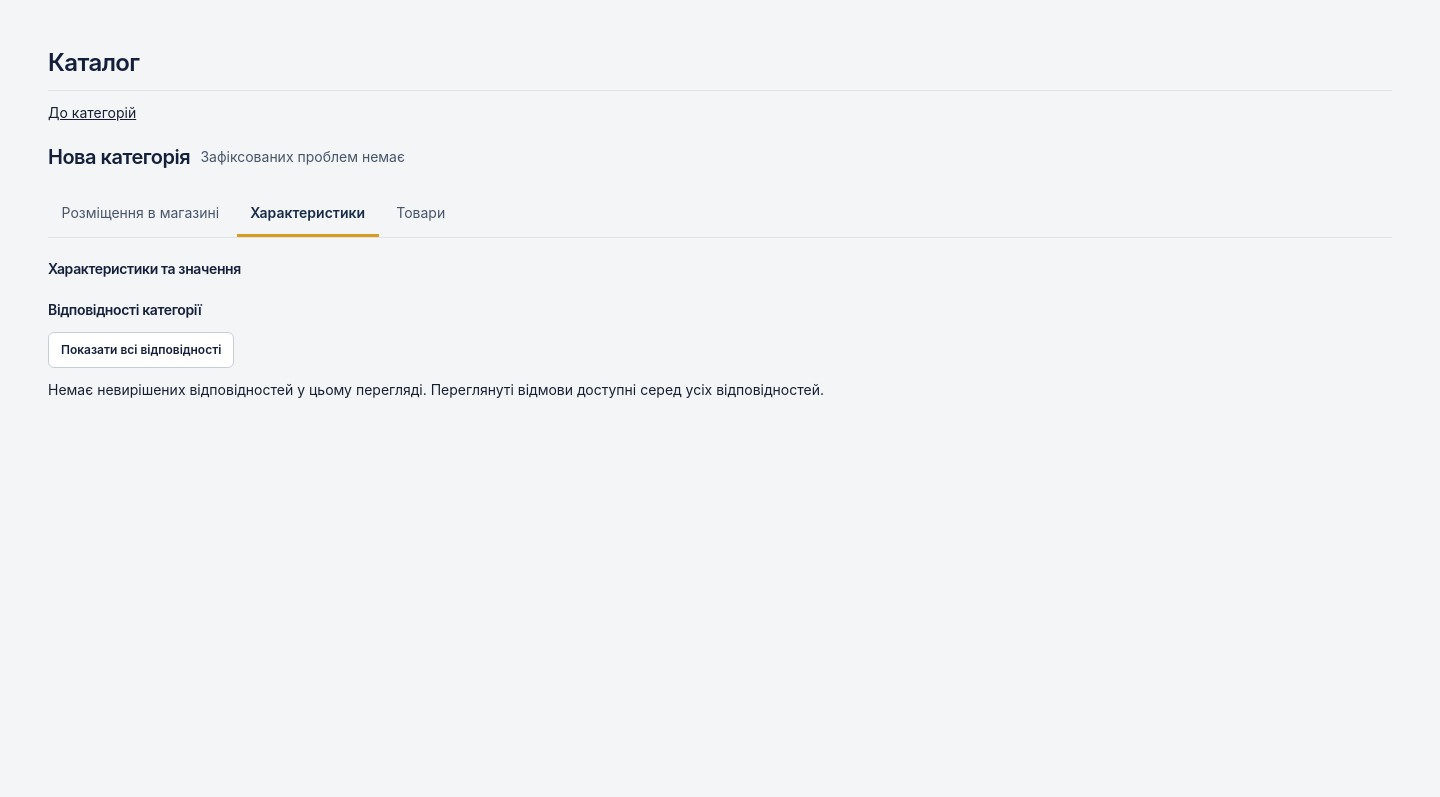
searches the entire mapping scope by Який камінь? without mounting unrelated rows
Expected: the text "Немає невирішених" is shown, [48, 381, 824, 398]
Step 1. Click the button "Показати всі відповідності" → (141, 350), box [48, 332, 234, 368]
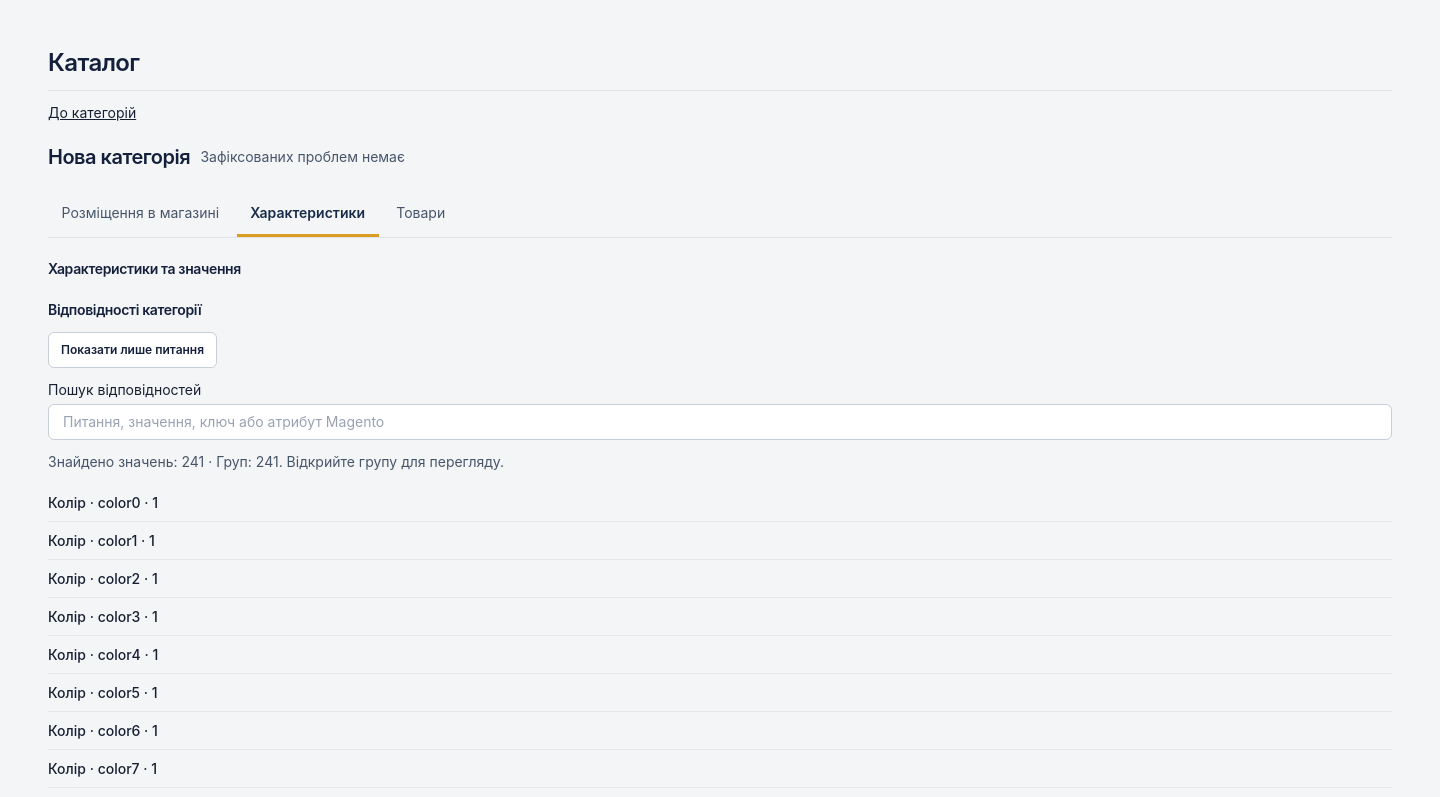
Step 2. Type "Який камінь?" into the search field labelled "Пошук відповідностей" → (720, 422), box [48, 404, 1392, 440]
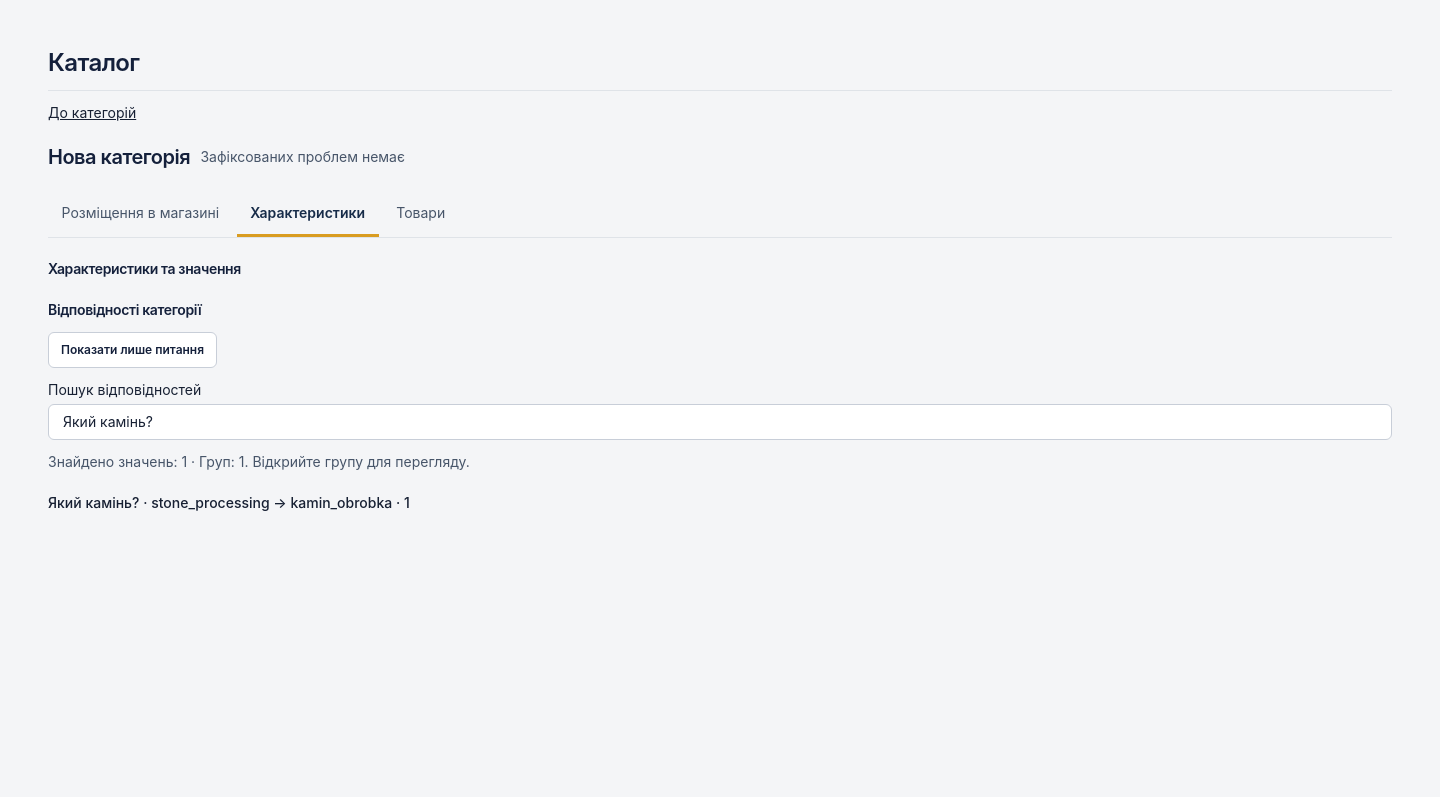
Step 3. Click the button "Який камінь? · stone_processing → kamin_obrobka · 1" → (229, 503), box [48, 492, 410, 513]
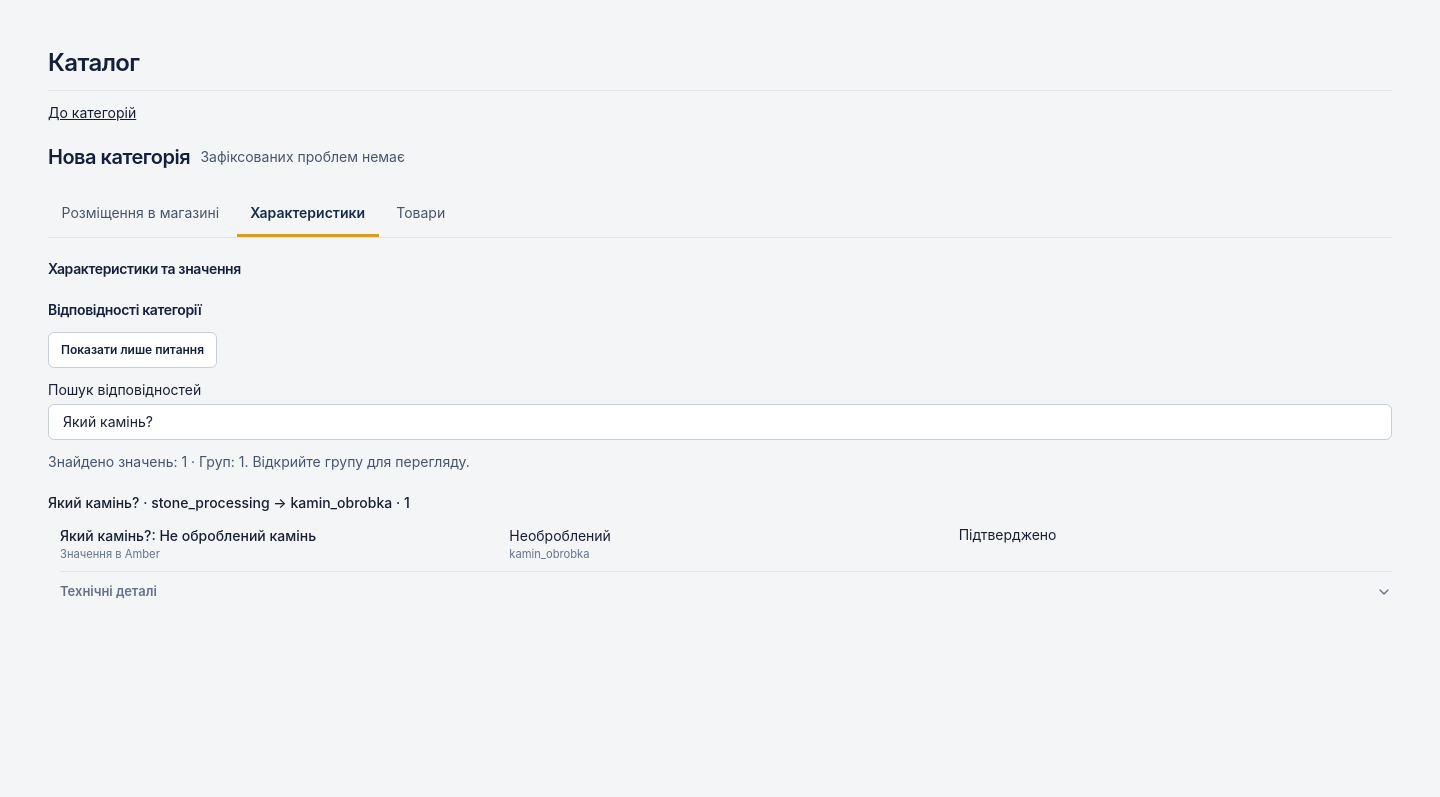
Expected: the text "value_id:" is not shown
Result: the text "Який камінь?: Не оброблений камінь" is shown at [60, 527, 316, 544]
Step 4. Click the heading "Технічні деталі" → (108, 591), box [60, 583, 1392, 600]
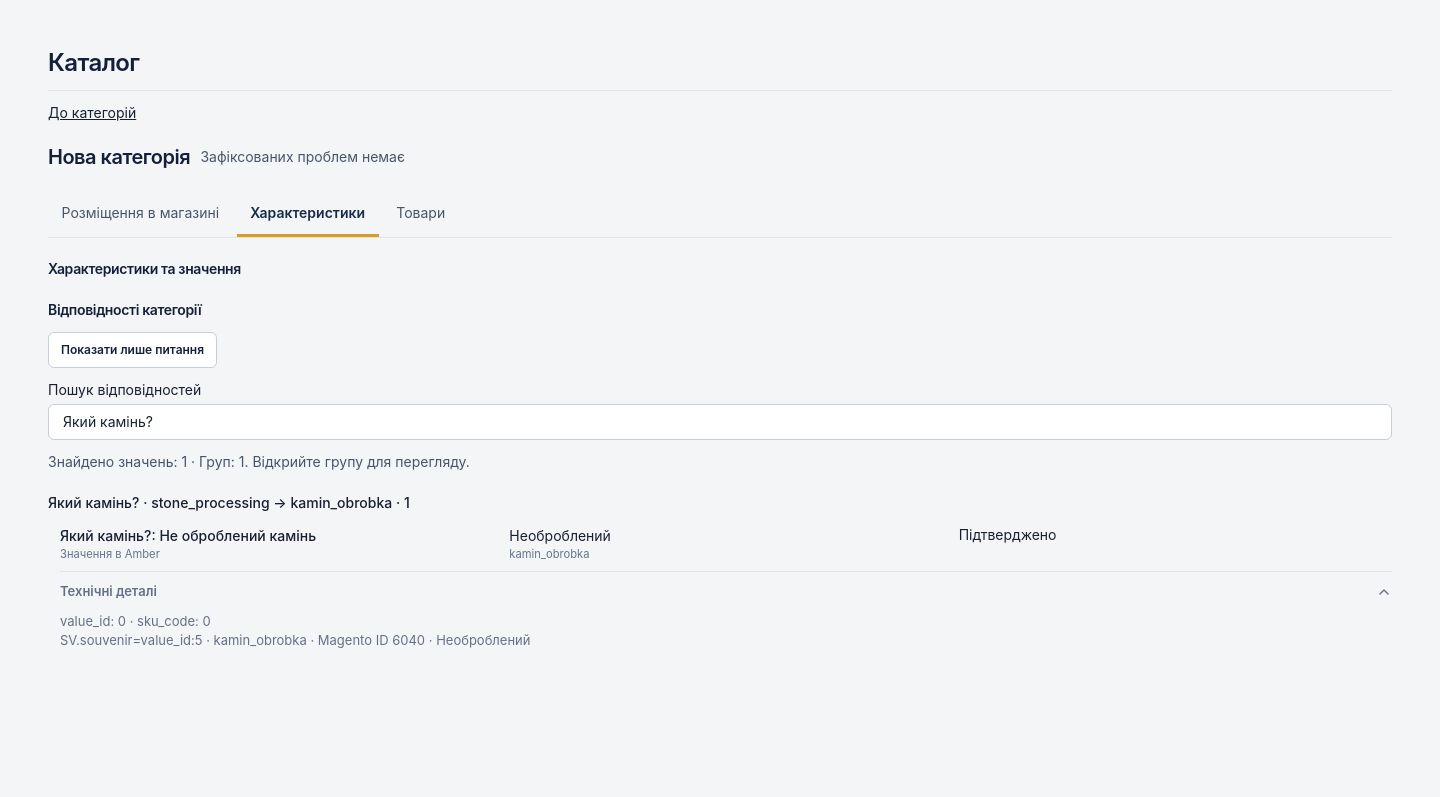
Result: the text "Magento ID 6040" is shown at [60, 632, 530, 648]
